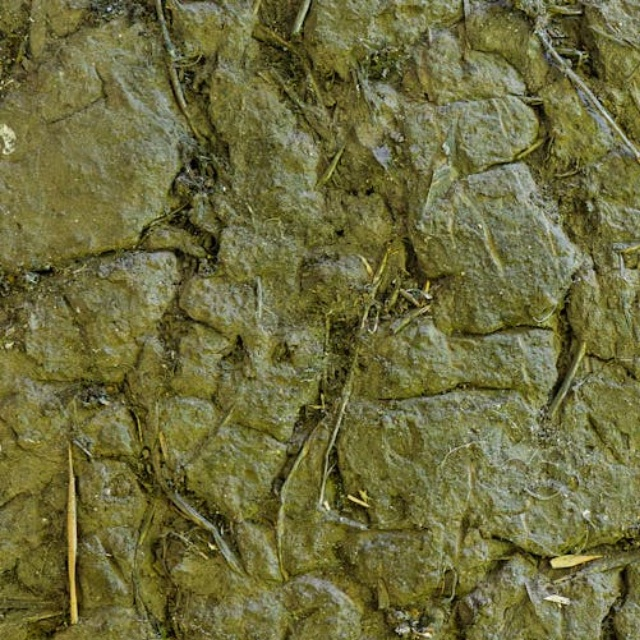细微裂纹: (542, 276, 640, 640), (0, 198, 295, 313), (268, 521, 451, 640)
